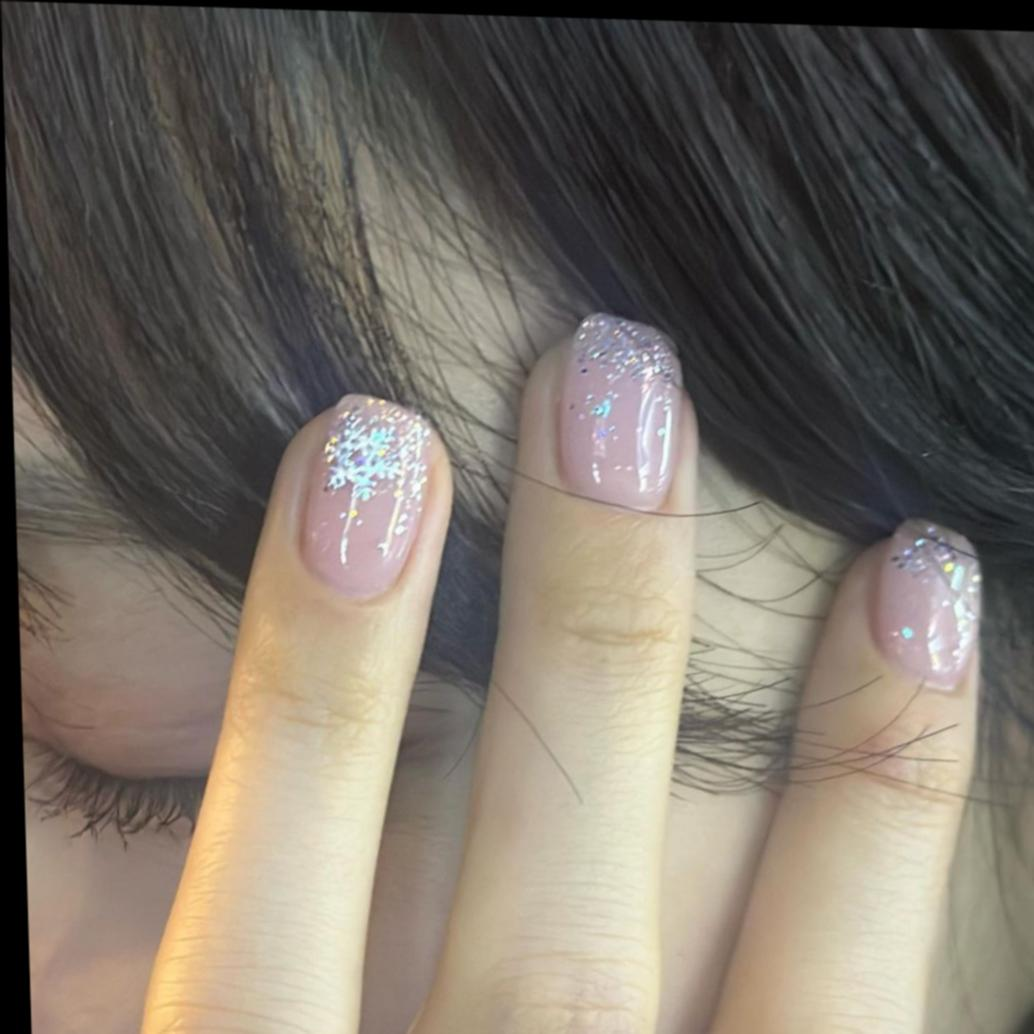nail: (292, 388, 433, 599), (550, 307, 687, 513), (864, 513, 985, 692)
